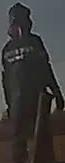gloves: (51, 87, 65, 111)
vest: (2, 35, 49, 117)
